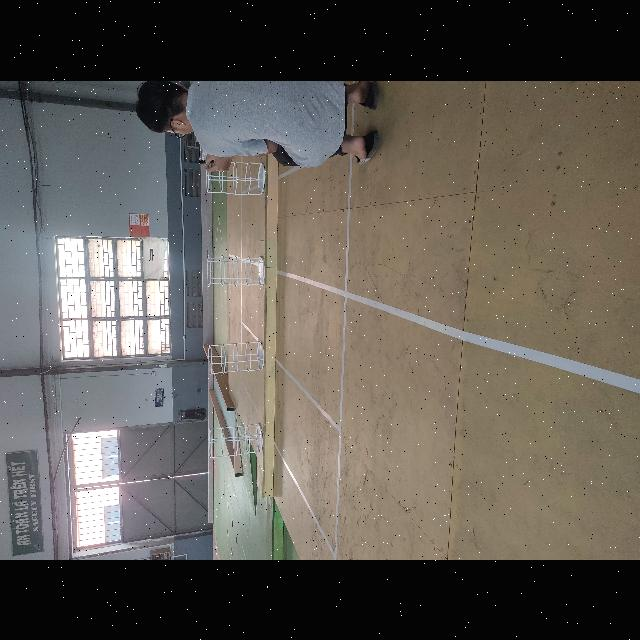S: (205, 160, 266, 196), (207, 339, 265, 375), (207, 422, 264, 458), (206, 254, 266, 287)
